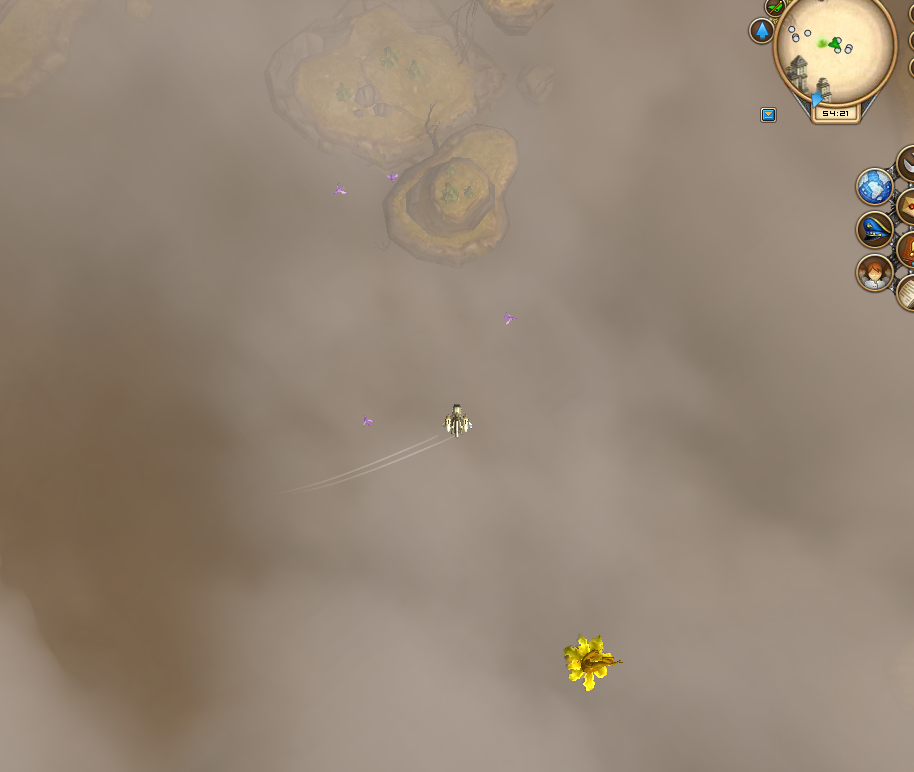dandelion-empty: (557, 629, 622, 694)
